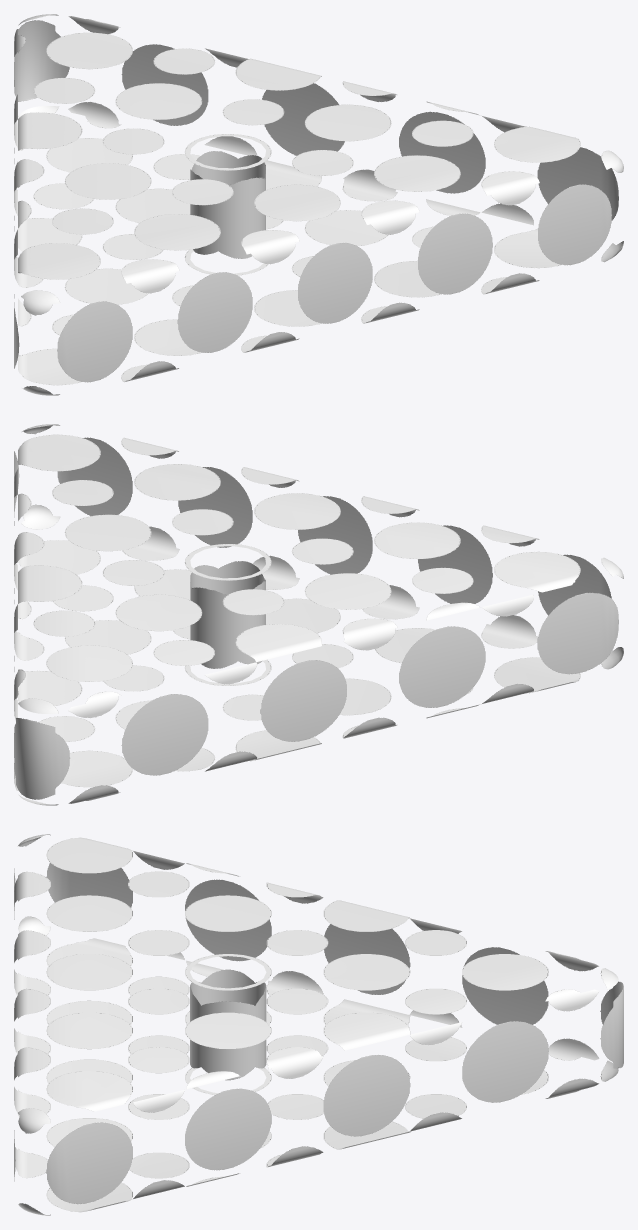
The picture shows the model from 3 angles, top to bottom: view 1: azimuth 30°, elevation 25°; view 2: azimuth 150°, elevation 25°; view 3: azimuth 270°, elevation 25°; orthographic projection.
Parts seen in each view (by area): view 1: OriginalTriangle.009; view 2: OriginalTriangle.009; view 3: OriginalTriangle.009.
Part boxes in pixels (x1,y1,x2,y2): OriginalTriangle.009: (14, 14, 623, 395); OriginalTriangle.009: (14, 424, 623, 805); OriginalTriangle.009: (14, 834, 623, 1215).
Size of the model in its own units: 425 by 71.37 by 374.
